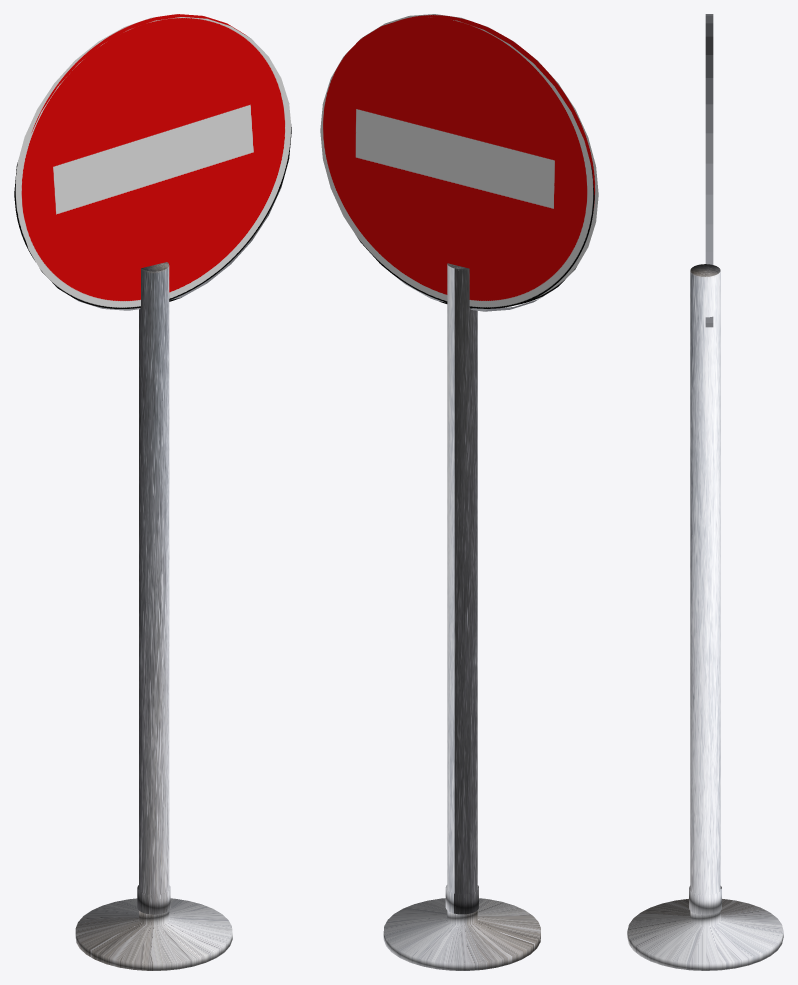
Rendered from Trafficsignal4.fbx.
The picture shows the model from 3 angles, left to right: view 1: azimuth 30°, elevation 25°; view 2: azimuth 150°, elevation 25°; view 3: azimuth 270°, elevation 25°; orthographic projection.
Parts seen in each view (by area): view 1: Trafficsignal4; view 2: Trafficsignal4; view 3: Trafficsignal4.
Part boxes in pixels (x1,y1,x2,y2): Trafficsignal4: (14, 14, 291, 970); Trafficsignal4: (320, 14, 598, 970); Trafficsignal4: (627, 14, 783, 970).
Bounding box in the file's own units: 146 × 467 × 72.6.
2 materials, 2 textured.
